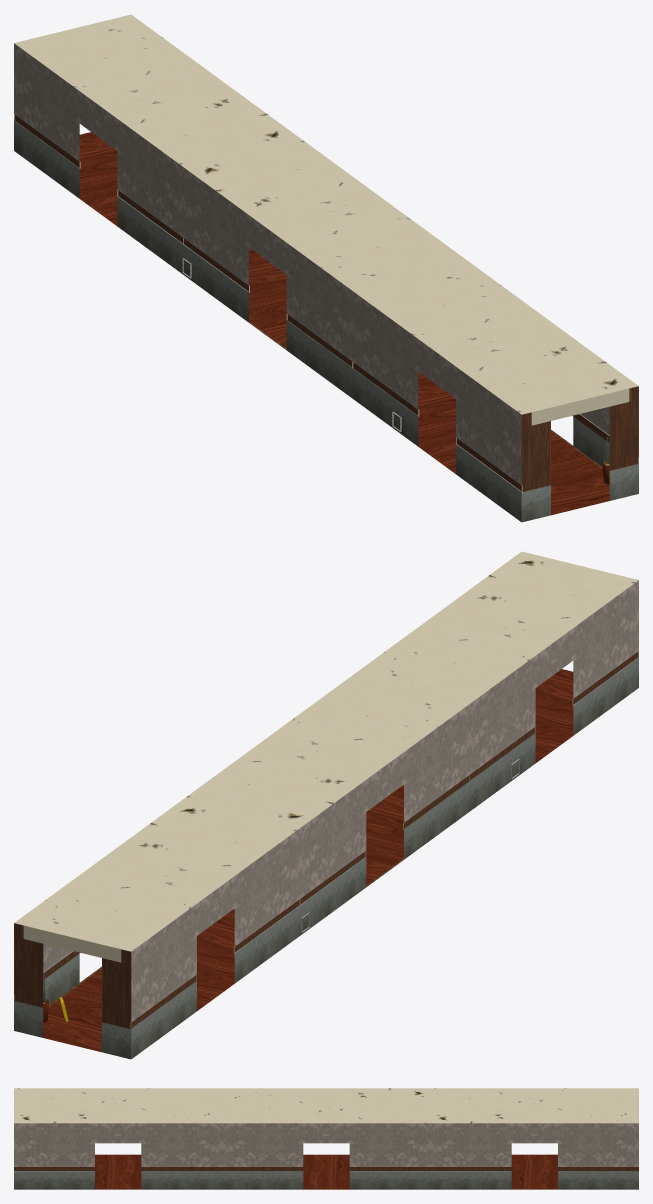
File: hotel_hallway.glb
The picture shows the model from 3 angles, top to bottom: view 1: azimuth 30°, elevation 25°; view 2: azimuth 150°, elevation 25°; view 3: azimuth 270°, elevation 25°; orthographic projection. The views are drawn at different scales.
Visible parts, largest first — view 1: HallWayFrame_3, Doorframe_B_6, RoofTop_4; view 2: HallWayFrame_3, Doorframe_E_5, RoofTop_4; view 3: HallWayFrame_3.
Boxes of the visible parts, x1,y1,x2,y2 form: HallWayFrame_3: [14, 14, 638, 521]; Doorframe_B_6: [521, 399, 638, 522]; RoofTop_4: [521, 386, 638, 427]; HallWayFrame_3: [14, 551, 638, 1058]; Doorframe_E_5: [14, 936, 131, 1059]; RoofTop_4: [14, 923, 131, 964]; HallWayFrame_3: [14, 1088, 638, 1189].
Size of the model in its own units: 4.04 by 3.53 by 30.
2 materials, 2 textured.
